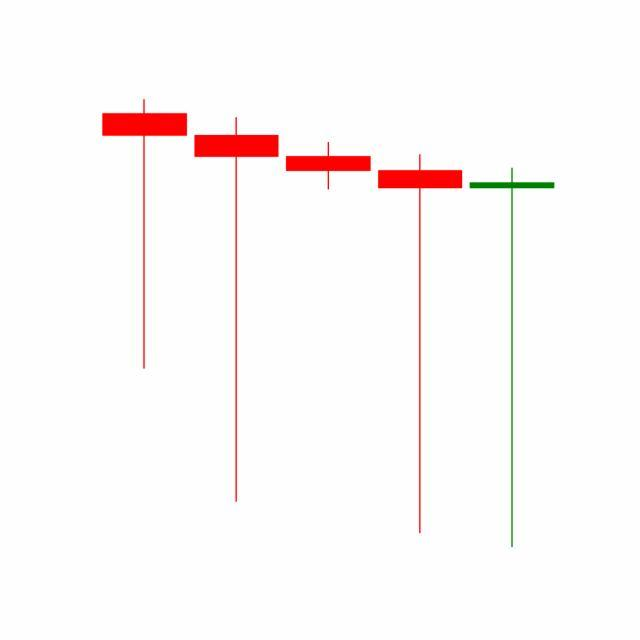Spinning Top: (466, 164, 559, 552)
